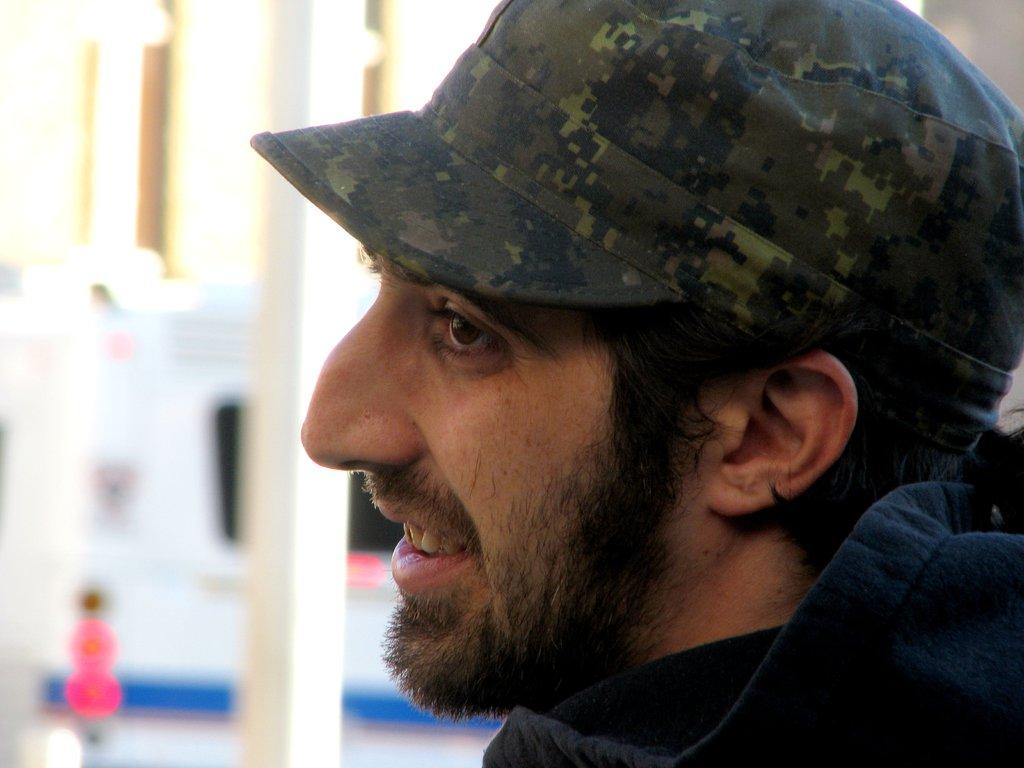Hat: (246, 0, 1022, 432)
